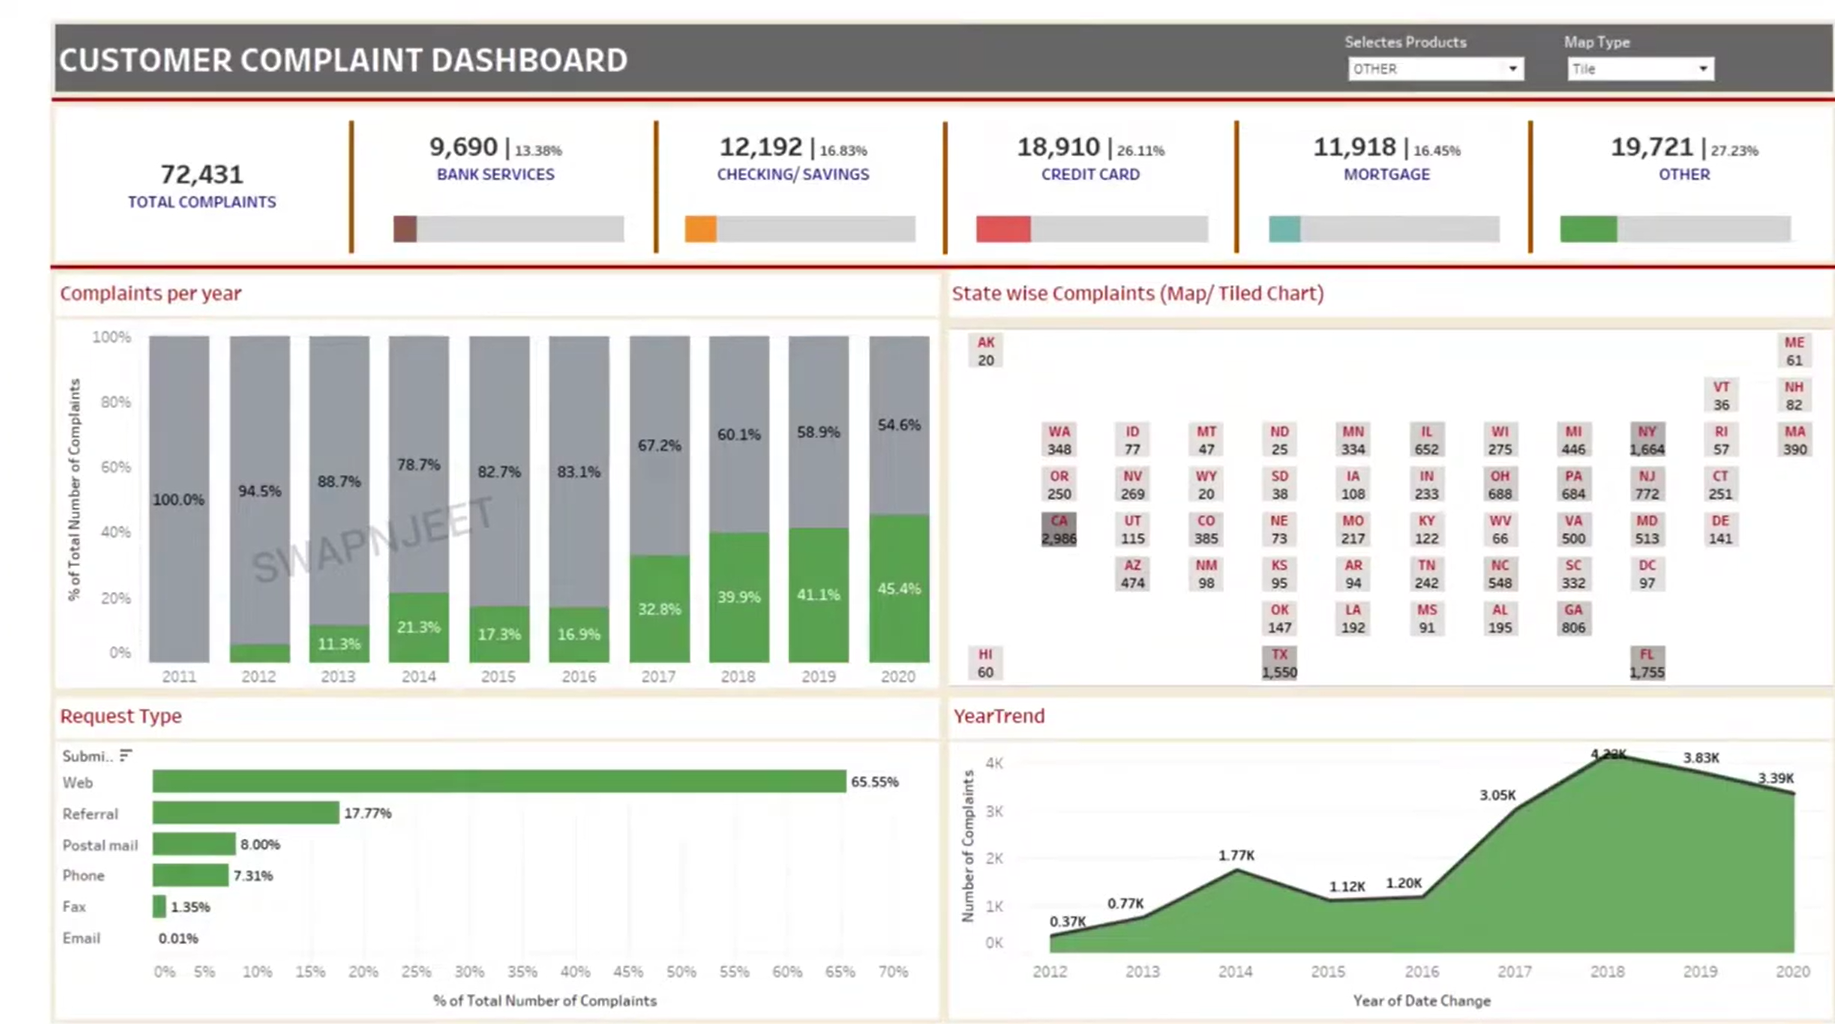

Layout of this report page (visuals, bound fields, positions):
{"tool":"tableau","page":{"name":"Customer Complaint Dashboard","canvas":[1000,1000],"units":"permille","ordinal":0},"visuals":[{"type":"title","box":[4.8,9.4,990.3,58.8]},{"type":"parameter","param":"[Parameters].[Parameter 1]","box":[727.8,14.1,119.7,56.4]},{"type":"parameter","param":"[Parameters].[Parameter 2]","box":[863.9,14.1,126.4,54.1]},{"type":"blank","box":[4.8,68.2,990.3,4.7]},{"type":"worksheet","title":"TOTAL KPI","mark":"Automatic","box":[4.8,72.9,198.1,143.4]},{"type":"worksheet","title":"KPI","mark":"Automatic","box":[202.9,72.9,792.2,143.4]},{"type":"blank","box":[182.5,85.8,3,117.5]},{"type":"blank","box":[359,85.8,3.7,117.5]},{"type":"blank","box":[821.2,85.8,3.7,117.5]},{"type":"worksheet","title":"% of Complaints","mark":"Bar","cols":["Calculation_812055341375320072","Number of Complaints"],"box":[220.4,172.7,768.5,30.6]},{"type":"worksheet","title":"Complaints Per Year","mark":"Bar","cols":["Date Received"],"box":[4.8,216.2,495.5,479.4]},{"type":"text","box":[500.3,216.2,494.9,47]},{"type":"worksheet","title":"Map All","mark":"Multipolygon","box":[500.3,263.2,494.9,432.4]},{"type":"worksheet","title":"Request Type","mark":"Automatic","rows":["Submitted via"],"box":[4.8,695.6,495.5,294.9]},{"type":"worksheet","title":"Year Trend","mark":"Area","rows":["Number of Complaints","Number of Complaints"],"cols":["Date Received"],"box":[500.3,695.6,494.9,294.9]}]}

Visuals, with their boxes on the dashboard's canvas, which has no fixed pixel size, in thousandths of its width and height (x1, y1, x2, y2). These are canvas units, not pixel positions in the 1835x1024 screenshot, which may show the page scaled, cropped or inside an application window:
title: rect(5, 9, 995, 68)
parameter: rect(728, 14, 848, 70)
parameter: rect(864, 14, 990, 68)
blank: rect(5, 68, 995, 73)
"TOTAL KPI" worksheet: rect(5, 73, 203, 216)
"KPI" worksheet: rect(203, 73, 995, 216)
blank: rect(182, 86, 186, 203)
blank: rect(359, 86, 363, 203)
blank: rect(821, 86, 825, 203)
"% of Complaints" worksheet (Bar marks): rect(220, 173, 989, 203)
"Complaints Per Year" worksheet (Bar marks): rect(5, 216, 500, 696)
text: rect(500, 216, 995, 263)
"Map All" worksheet (Multipolygon marks): rect(500, 263, 995, 696)
"Request Type" worksheet: rect(5, 696, 500, 990)
"Year Trend" worksheet (Area marks): rect(500, 696, 995, 990)
